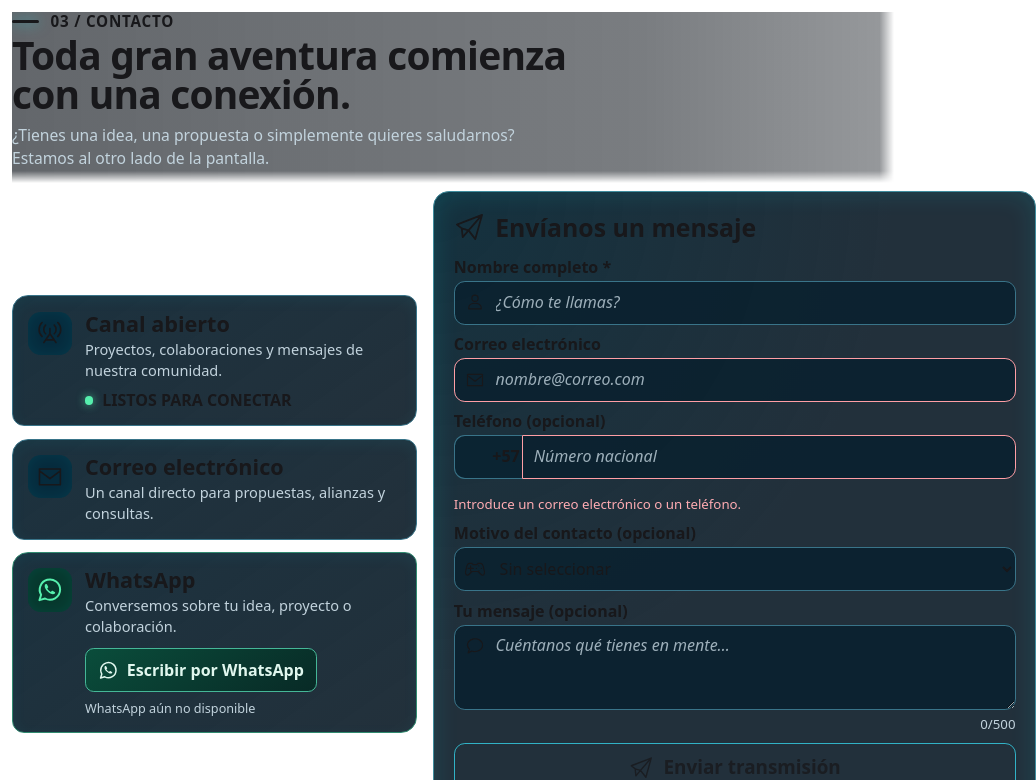
Test case: links the shared contact requirement to both inputs in es
Earlier steps of the test are not shown.
Expected: the message reads "Introduce un correo electrónico o un teléfono.", [454,495,741,513]
Type "+44 20 7946 0018" into the field labelled "Teléfono (opcional)".
click(769, 457); type("+44 20 7946 0018")  # box [522,435,1016,479]
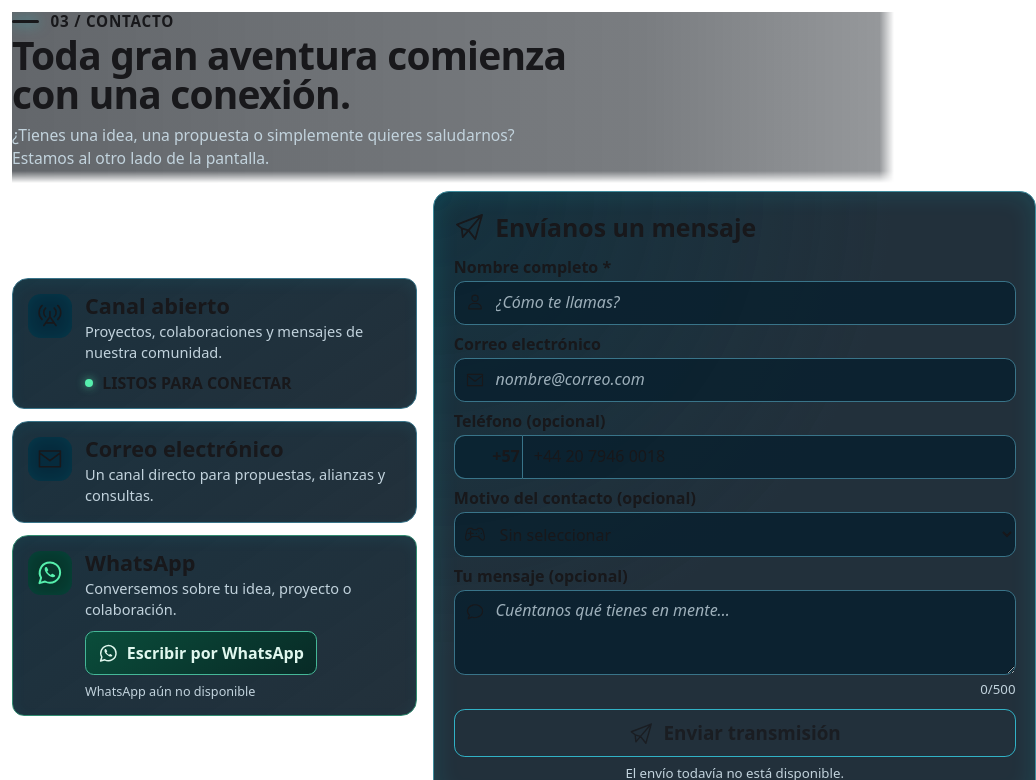
Now the message "Introduce un correo electrónico o un teléfono." is gone
Clear the field labelled "Teléfono (opcional)" at (769, 457), box [522,435,1016,479]
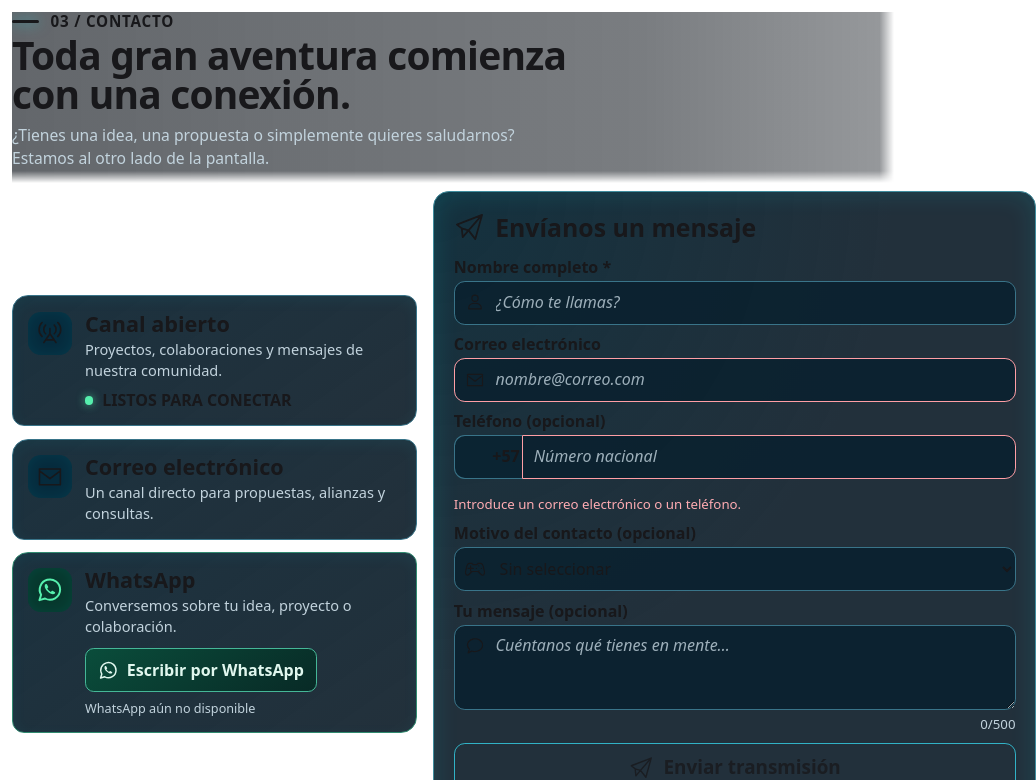
Now the message reads "Introduce un correo electrónico o un teléfono.", box [454,495,741,513]
Type "studio@example.com" into the field labelled "Correo electrónico".
click(735, 380); type("studio@example.com")  # box [454,358,1016,402]
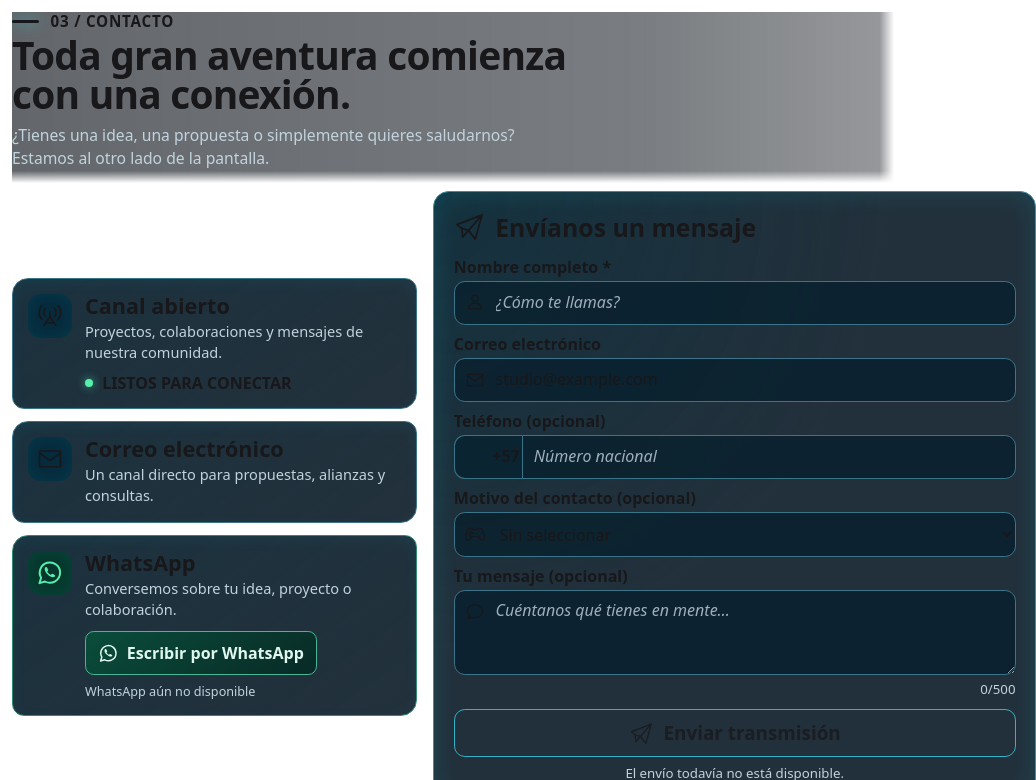
Now the message "Introduce un correo electrónico o un teléfono." is gone
